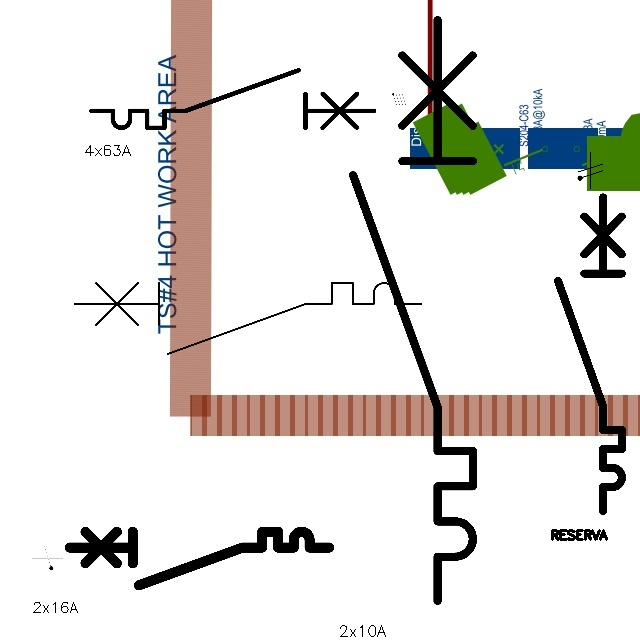interruptor_termomagnetico: (338, 5, 488, 616), (66, 274, 430, 363), (550, 189, 630, 518), (84, 63, 381, 135), (62, 525, 335, 591)
